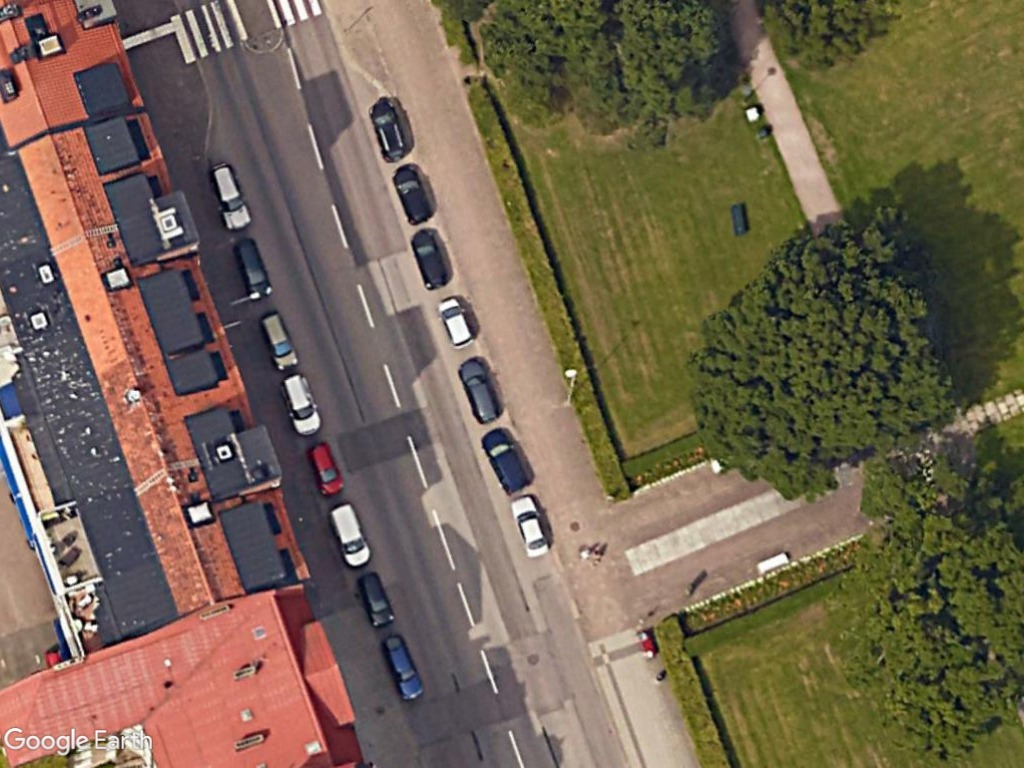car: (206, 157, 255, 234), (377, 630, 425, 704), (458, 355, 505, 429), (255, 305, 303, 375), (276, 369, 323, 438), (233, 229, 277, 302), (364, 96, 409, 164), (507, 490, 549, 558), (405, 226, 450, 289), (355, 565, 395, 635), (393, 162, 434, 227), (436, 294, 478, 353), (304, 439, 346, 498)
van: (479, 427, 531, 497), (328, 501, 375, 570)
